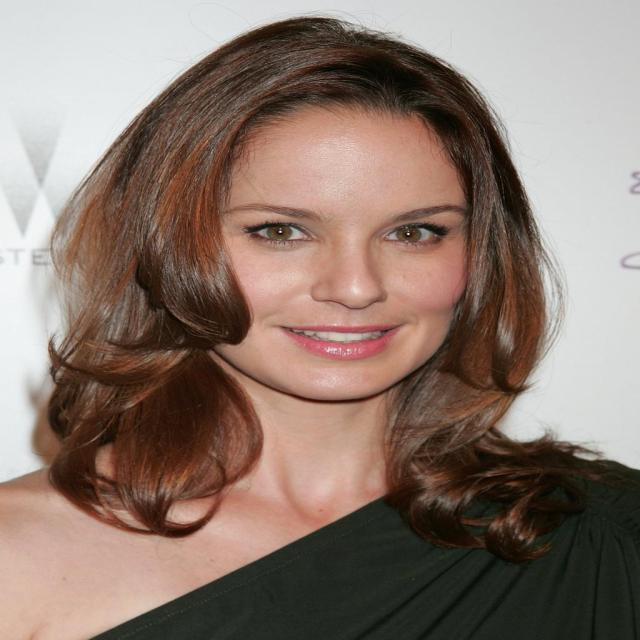Face: (210, 110, 464, 402)
